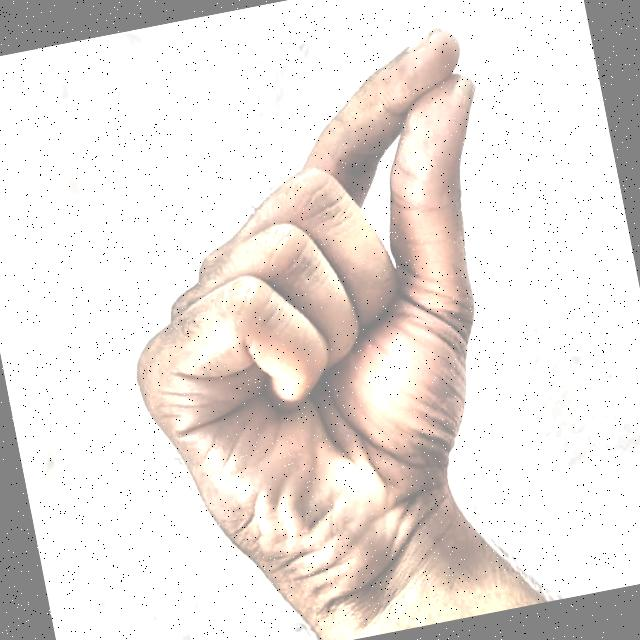Anusshar: (59, 0, 599, 640)
